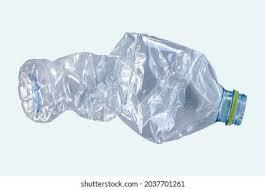plastic: (13, 33, 246, 145)
